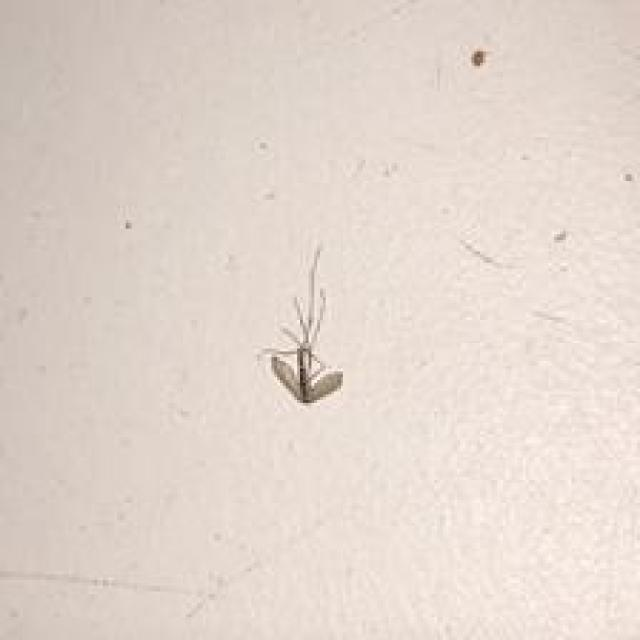Culex: (257, 245, 346, 404)
